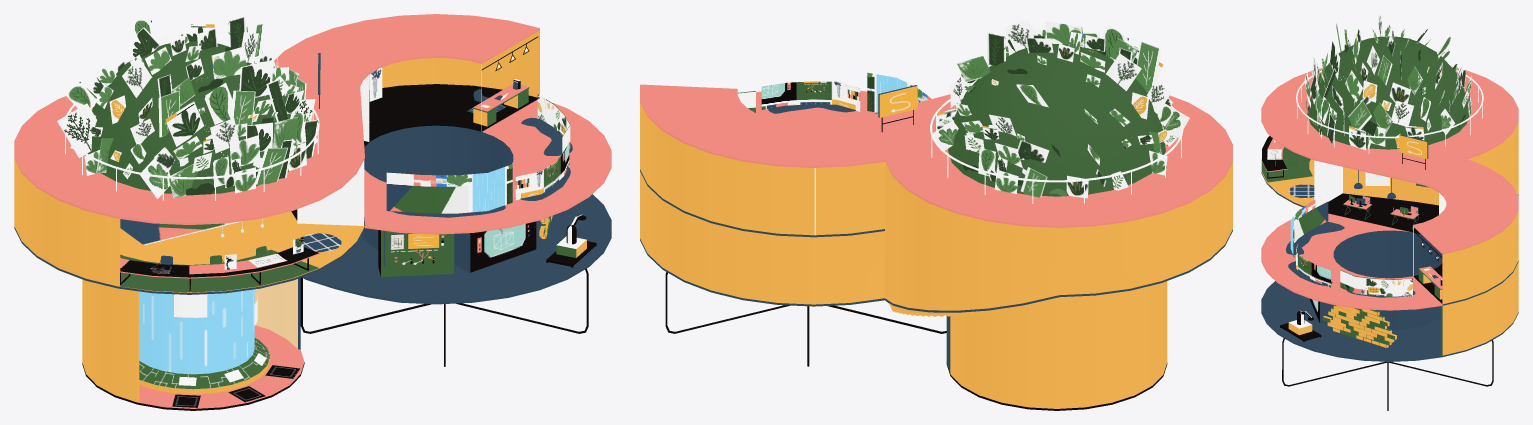
The model's file is 1115_建筑楼.fbx.
3 views of the same model, side by side, from view 1: azimuth 30°, elevation 25°; view 2: azimuth 150°, elevation 25°; view 3: azimuth 270°, elevation 25° (orthographic). The views are drawn at different scales.
Visible parts, largest first — view 1: Cylinder_1, plant, Cylinder_3, Plane_2, Cube, Cube_1, Tube_1, glass_2, Plane_7_2, Plane_1, table_2, Circle_sweep_1 (+6 smaller); view 2: Cylinder_1, plant, Plane_1, Circle_sweep_1, Cube_4, Plane_2; view 3: Cylinder_1, plant, Cube_2_49_1, Plane_2_2, Plane_2, glass_2, Cylinder_2_2, Circle_sweep_1, Plane_1, Cube_4, Extrude, Tube_1 (+5 smaller).
Part boxes in pixels (x1,y1,x2,y2): Cylinder_1: (14,14,611,410); plant: (57,16,318,198); Cylinder_3: (139,289,254,374); Plane_2: (386,164,512,213); Cube: (378,230,454,277); Cube_1: (454,221,536,272); Tube_1: (120,247,319,290); glass_2: (297,160,364,225); Plane_7_2: (120,219,243,245); Plane_1: (515,142,569,200); table_2: (473,84,529,126); Circle_sweep_1: (65,104,319,200); Cylinder_1: (640,44,1232,410); plant: (931,19,1189,198); Plane_1: (761,81,860,111); Circle_sweep_1: (930,90,1183,203); Cube_4: (878,85,917,132); Plane_2: (867,72,931,112); Cylinder_1: (1261,36,1518,410); plant: (1304,14,1472,150); Cube_2_49_1: (1322,305,1396,348); Plane_2_2: (1340,270,1412,296); Plane_2: (1290,193,1328,257); glass_2: (1314,160,1342,201); Cylinder_2_2: (1390,177,1438,205); Circle_sweep_1: (1296,70,1483,153); Plane_1: (1296,244,1330,287); Cube_4: (1399,134,1428,169); Extrude: (1286,222,1344,254); Tube_1: (1262,136,1287,178).
Bounding box in the file's own units: 2897 × 1656 × 1592.
